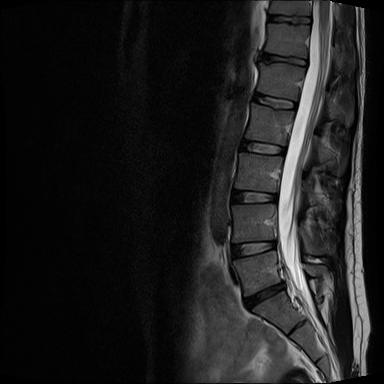Degenerative Disc Disease (DDD): (239, 276, 290, 317)
Normal IVD: (226, 234, 280, 262), (225, 186, 280, 207), (249, 92, 300, 113), (238, 139, 288, 160), (263, 9, 315, 27)
Spinal Stenosis (SS): (277, 277, 291, 297)
Thoracic Disc Bulge (TDB): (256, 48, 309, 67)
